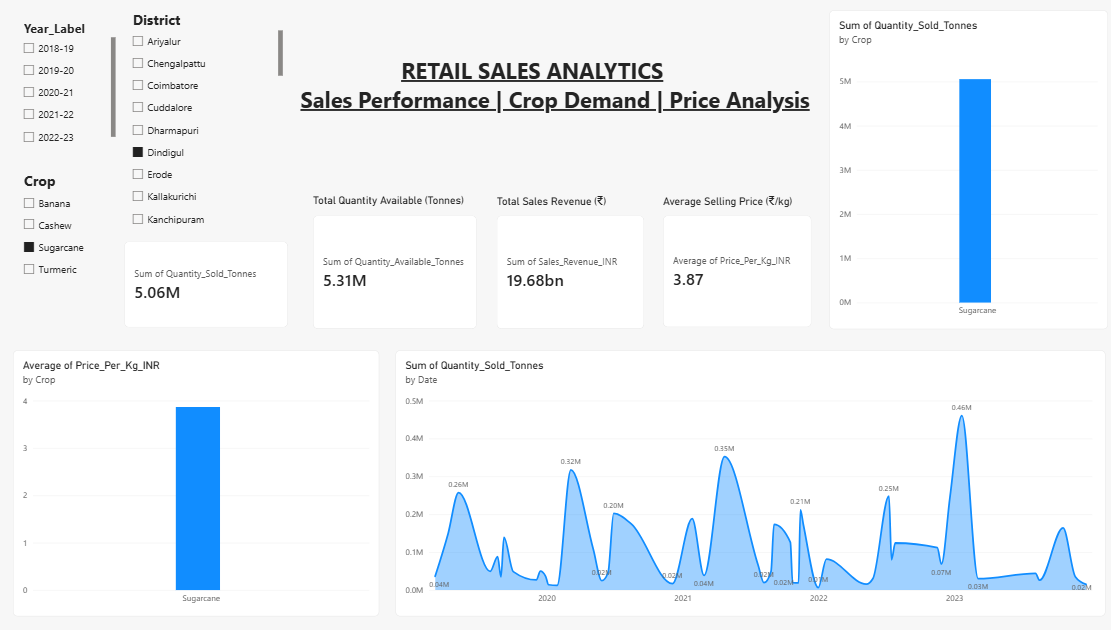

What the dashboard file says about the page in this screenshot:
{"tool":"powerbi","page":{"name":"RETAIL SALES","canvas":[1920,1080],"ordinal":2},"visuals":[{"type":"cardVisual","fields":{"Data":["Sum(Retail_Sales new.Quantity_Sold_Tonnes)"]},"box":[215.9,414.8,280.1,147.5],"z":0},{"type":"cardVisual","title":"Total Sales Revenue (₹)","fields":{"Data":["Sum(Retail_Sales new.Sales_Revenue_INR)"]},"box":[853.1,333.5,252.3,230.9],"z":1000},{"type":"cardVisual","title":"Average Selling Price (₹/kg)","fields":{"Data":["Avg(Retail_Sales new.Price_Per_Kg_INR)"]},"box":[1137.5,333.5,254.4,228.8],"z":2000},{"type":"cardVisual","title":"Total Quantity Available (Tonnes)","fields":{"Data":["Sum(Retail_Sales new.Quantity_Available_Tonnes)"]},"box":[538.8,333.5,280.1,230.9],"z":3000},{"type":"clusteredColumnChart","fields":{"Category":["Retail_Sales new.Crop"],"Y":["Sum(Retail_Sales new.Quantity_Sold_Tonnes)"]},"box":[1421.8,19.2,476.8,545.2],"z":4000},{"type":"lineChart","fields":{"Category":["Retail_Sales new.Date"],"Y":["Sum(Retail_Sales new.Quantity_Sold_Tonnes)"]},"box":[679.9,600.8,1214.4,455.4],"z":5000},{"type":"clusteredColumnChart","fields":{"Category":["Retail_Sales new.Crop"],"Y":["Avg(Retail_Sales new.Price_Per_Kg_INR)"]},"box":[25.7,600.8,626.5,455.4],"z":6000},{"type":"slicer","fields":{"Values":["CropTable.Crop"]},"box":[36.3,295.1,164.6,196.7],"z":7000},{"type":"slicer","fields":{"Values":["farmer prodcution new.District"]},"box":[222.4,19.2,265.1,365.6],"z":8000},{"type":"slicer","fields":{"Values":["farmer prodcution new.Year_Label"]},"box":[36.3,34.2,164.6,213.8],"z":9000},{"type":"textbox","box":[517.4,96.2,940.8,106.9],"z":9001}]}

Visuals, with their boxes in screenshot pixels (x1, y1, x2, y2), scaled from the page's 1920x1080 canvas onto the 1111x630 screenshot:
cardVisual - Sum(Retail_Sales new.Quantity_Sold_Tonnes): <region>125, 242, 287, 328</region>
"Total Sales Revenue (₹)" cardVisual: <region>494, 195, 640, 329</region>
"Average Selling Price (₹/kg)" cardVisual: <region>658, 195, 805, 328</region>
"Total Quantity Available (Tonnes)" cardVisual: <region>312, 195, 474, 329</region>
clusteredColumnChart - Retail_Sales new.Crop x Sum(Retail_Sales new.Quantity_Sold_Tonnes): <region>823, 11, 1099, 329</region>
lineChart - Retail_Sales new.Date x Sum(Retail_Sales new.Quantity_Sold_Tonnes): <region>393, 350, 1096, 616</region>
clusteredColumnChart - Retail_Sales new.Crop x Avg(Retail_Sales new.Price_Per_Kg_INR): <region>15, 350, 377, 616</region>
slicer - CropTable.Crop: <region>21, 172, 116, 287</region>
slicer - farmer prodcution new.District: <region>129, 11, 282, 224</region>
slicer - farmer prodcution new.Year_Label: <region>21, 20, 116, 145</region>
textbox: <region>299, 56, 844, 118</region>
